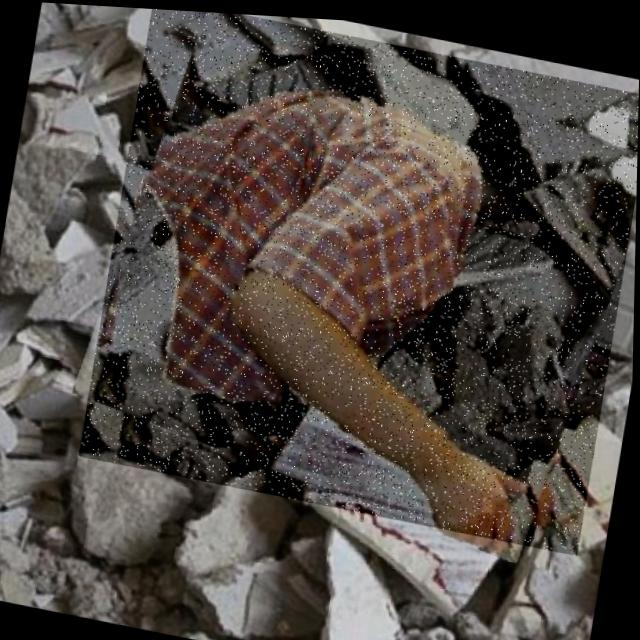Person in Rubble: (79, 4, 640, 551)
